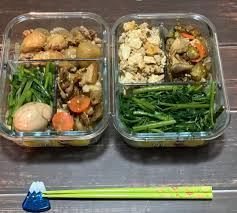water_spinach: (125, 89, 219, 129), (11, 69, 51, 100)
